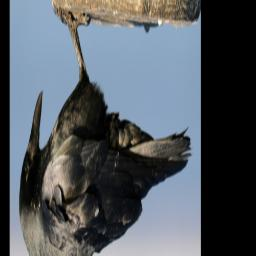Crow: (19, 0, 193, 256)
